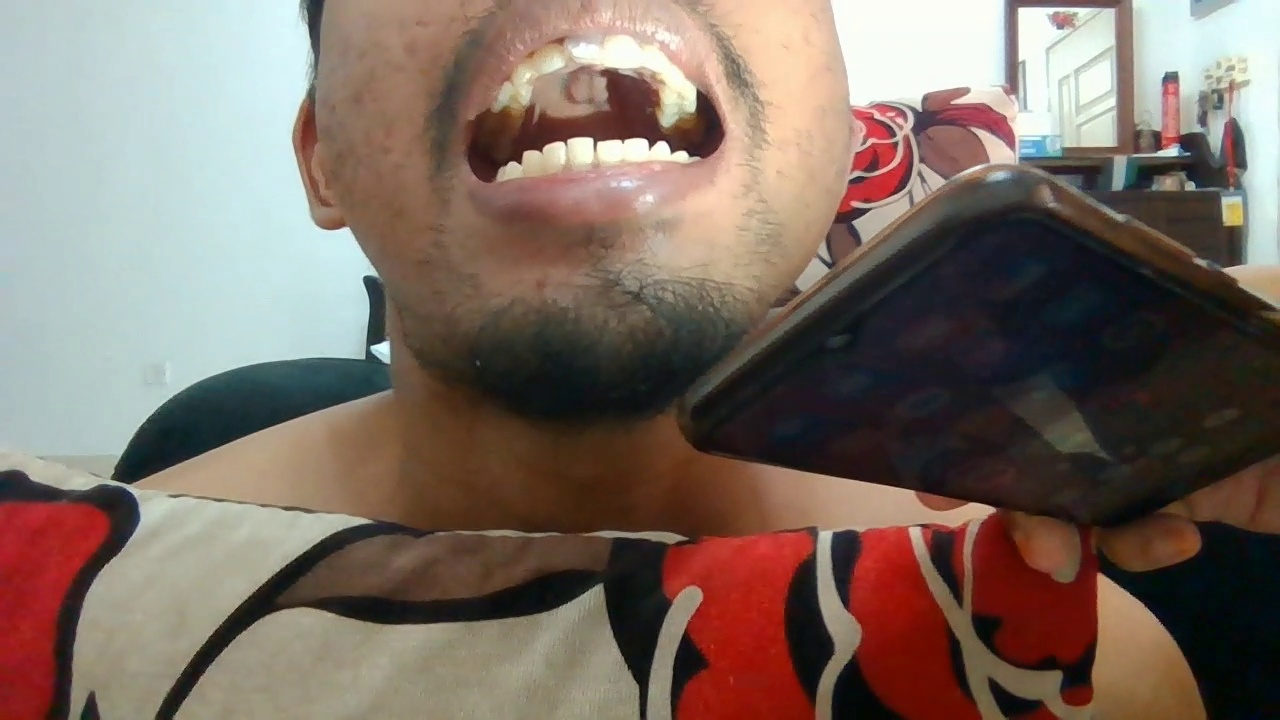1st Molar: (657, 114, 695, 128)
1st Premolar: (499, 83, 530, 104), (660, 83, 696, 101), (506, 160, 523, 179), (672, 149, 690, 163)
2nd Premolar: (492, 101, 526, 116), (660, 102, 697, 115), (496, 166, 506, 182)
Canine: (511, 55, 532, 86), (522, 149, 543, 177), (650, 138, 671, 161), (662, 66, 684, 85)
Central Incisor: (605, 33, 644, 68), (564, 35, 605, 65), (567, 137, 594, 171), (596, 137, 624, 167)
Lateral Incisor: (533, 41, 565, 73), (543, 142, 566, 174), (625, 135, 650, 164), (644, 45, 669, 72)
